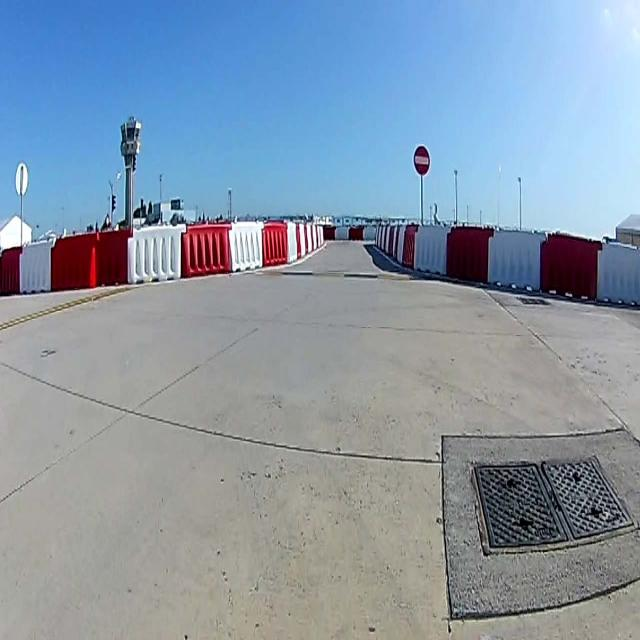girisyok: (412, 144, 432, 175)
